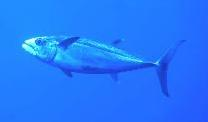Scombridae -Tunas-: (15, 28, 186, 102)
